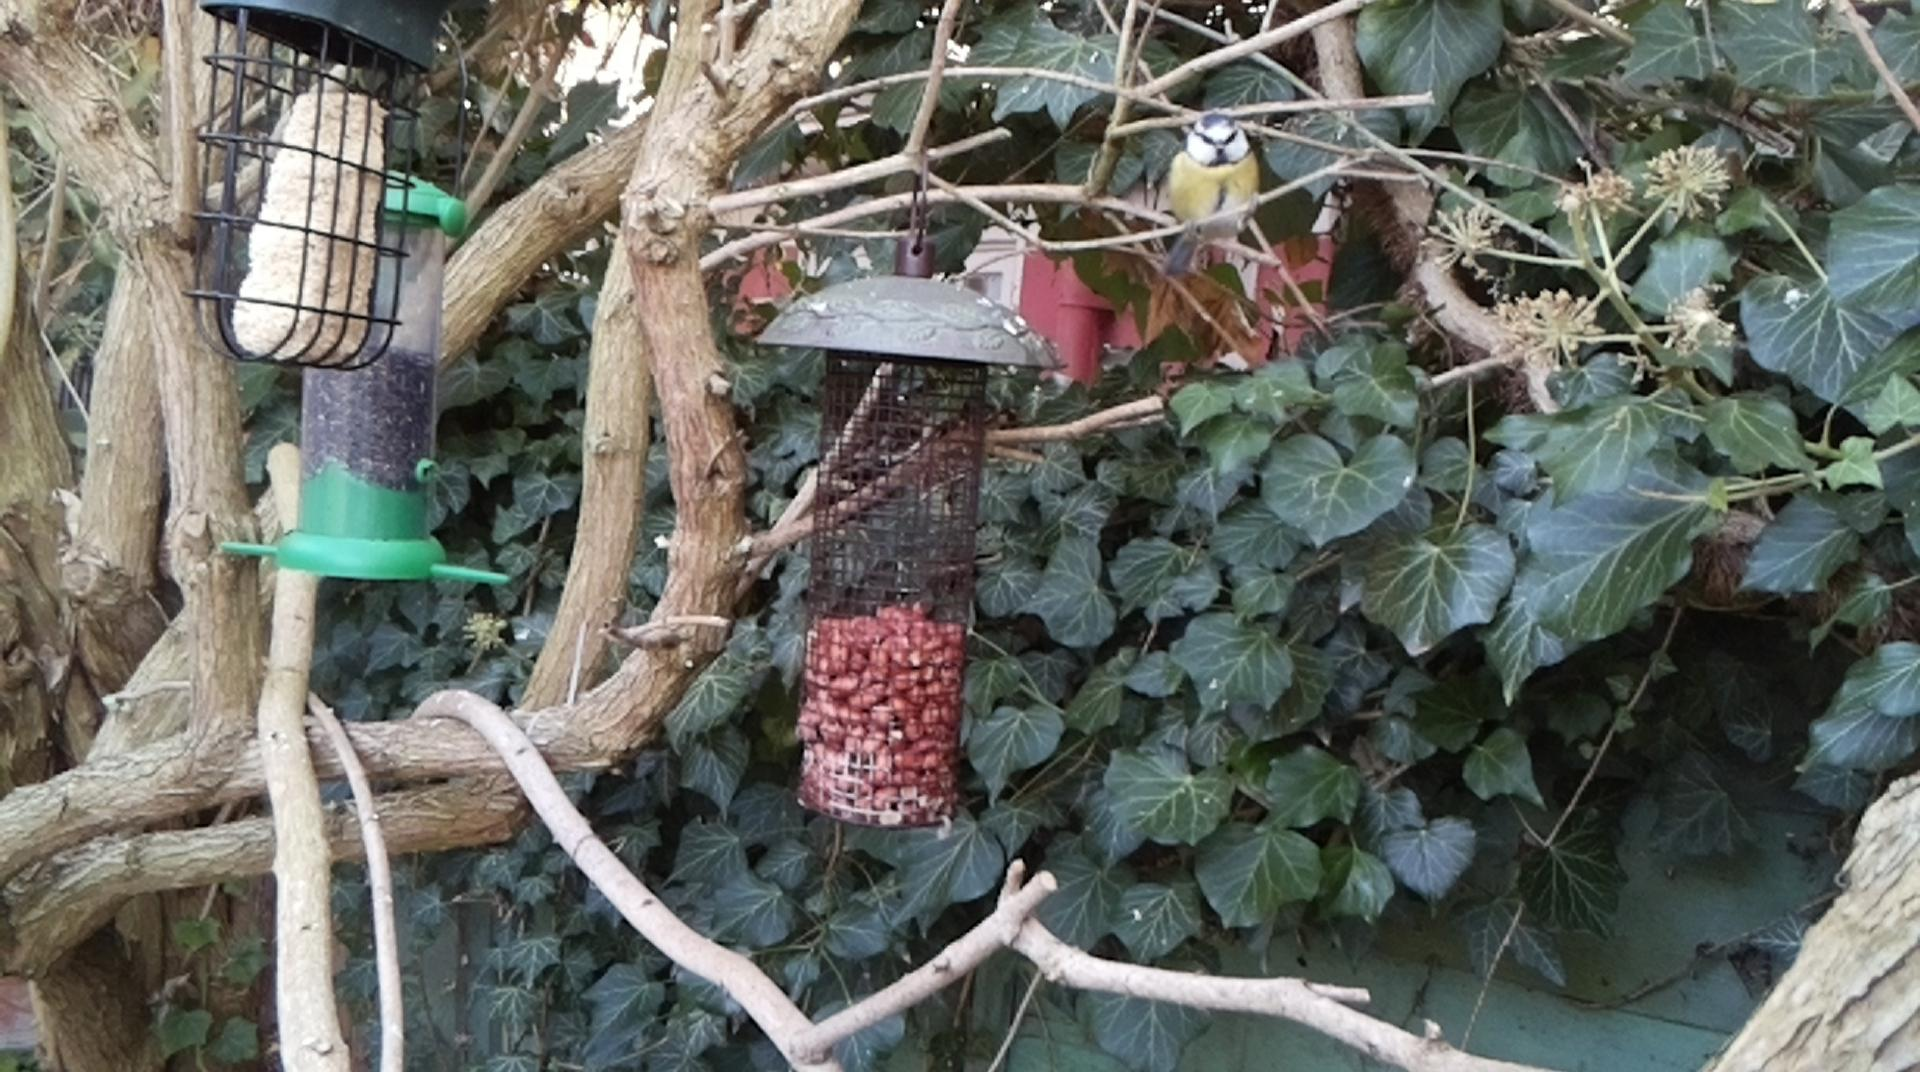blue tit: (1156, 113, 1261, 276)
